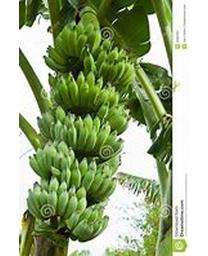banana: (24, 22, 137, 240)
